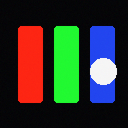2 circle: (90, 58, 116, 84)
